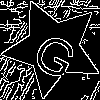G: (28, 23, 86, 82)
